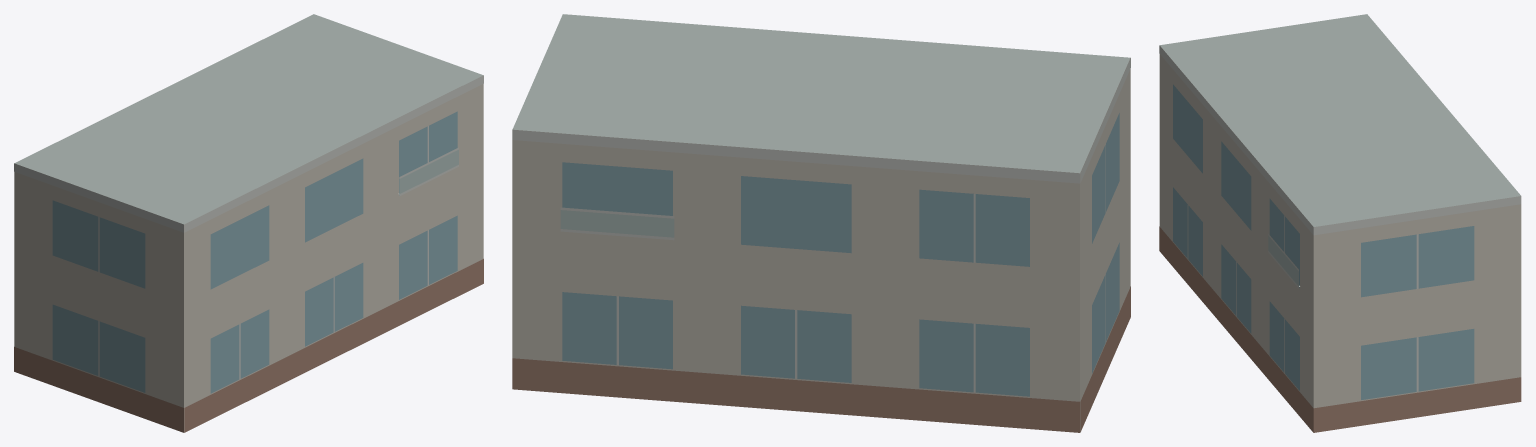
Rendered from survey-upis-32688638.glb.
3 views of the same model, side by side, from view 1: azimuth 30°, elevation 25°; view 2: azimuth 150°, elevation 25°; view 3: azimuth 270°, elevation 25° (orthographic). The views are drawn at different scales.
Parts seen in each view (by area): view 1: survey-upis-32688638.tmp; view 2: survey-upis-32688638.tmp; view 3: survey-upis-32688638.tmp.
Boxes of the visible parts, box(x1,y1,x2,y2) form: survey-upis-32688638.tmp: box(14, 14, 483, 432); survey-upis-32688638.tmp: box(512, 14, 1130, 432); survey-upis-32688638.tmp: box(1159, 14, 1521, 432).
Size of the model in its own units: 13.56 by 6.1 by 9.73.
